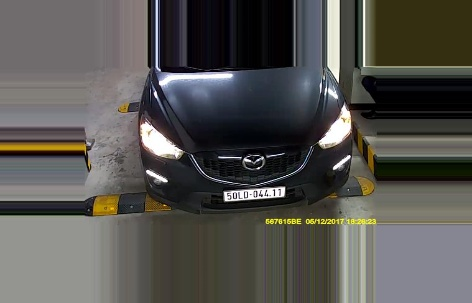plate: (223, 182, 285, 200)
